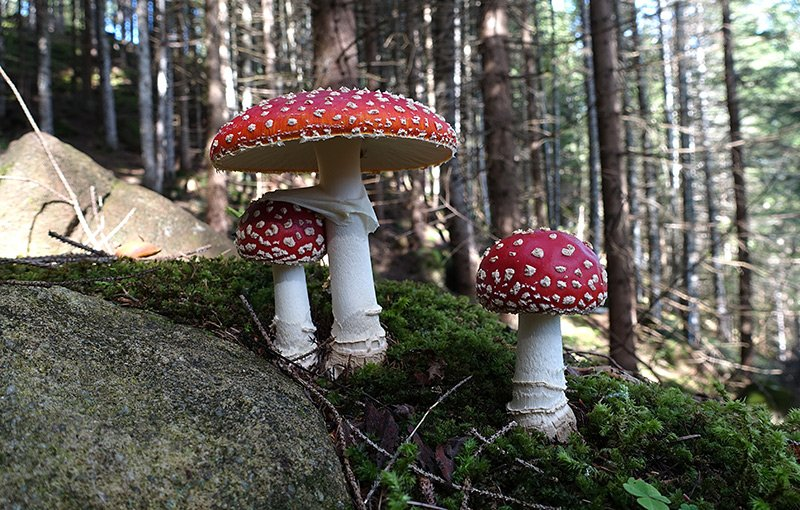bird: (206, 83, 458, 361)
